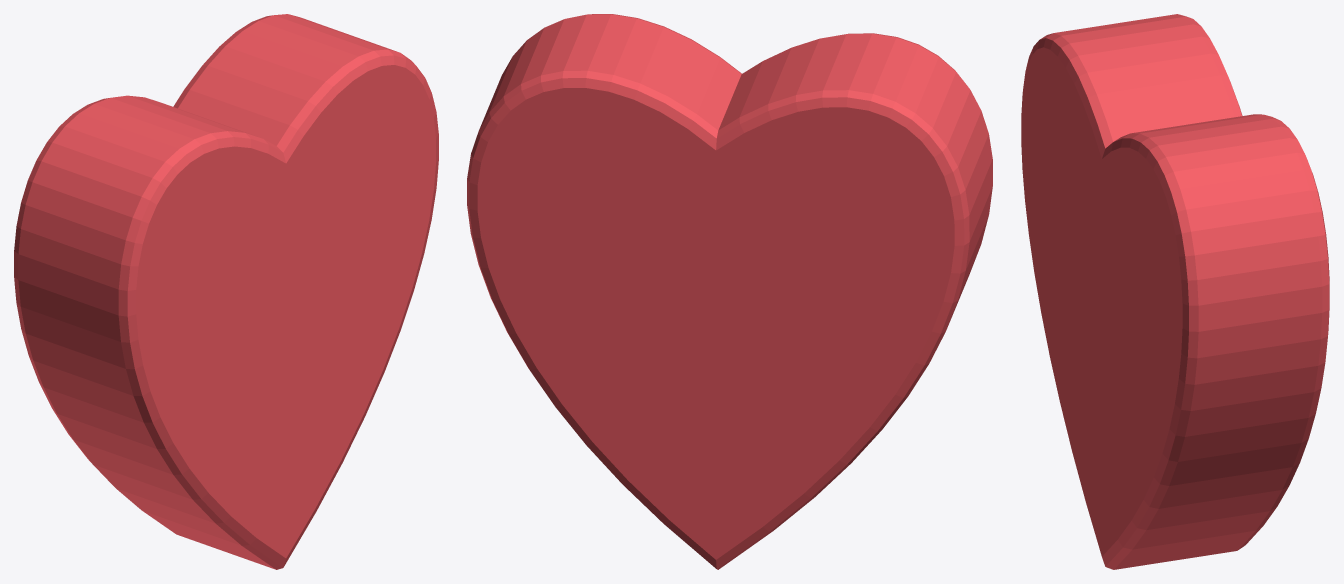
The model's file is heart.glb.
3 views of the same model, side by side, from view 1: azimuth 30°, elevation 25°; view 2: azimuth 150°, elevation 25°; view 3: azimuth 270°, elevation 25° (orthographic). The views are drawn at different scales.
Parts seen in each view (by area): view 1: heart; view 2: heart; view 3: heart.
Part boxes in pixels (x1,y1,x2,y2): heart: (14, 14, 438, 569); heart: (467, 14, 992, 569); heart: (1021, 14, 1329, 569).
Bounding box in the file's own units: 1.63 × 1.67 × 0.9843.
